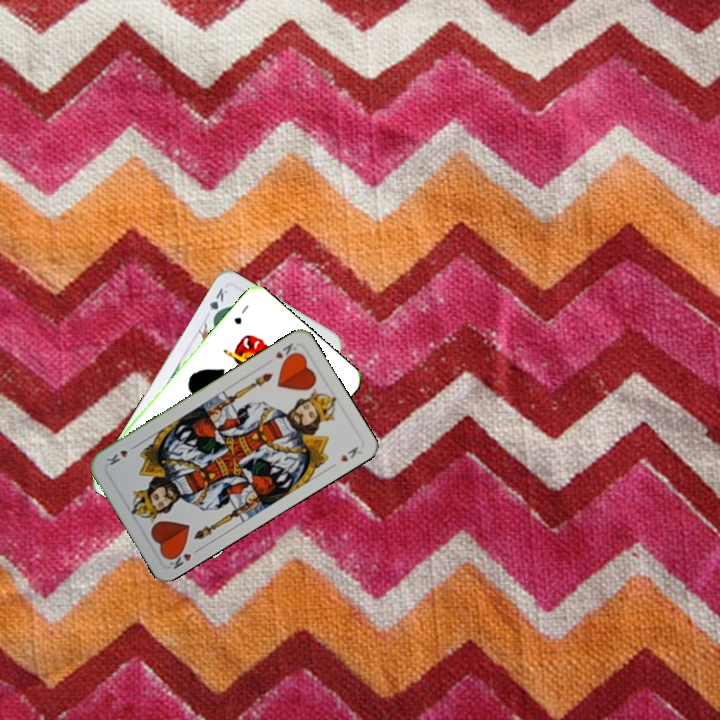GK: (205, 283, 231, 322)
GU: (230, 301, 251, 327)
HK: (164, 544, 203, 572), (271, 339, 301, 365)
